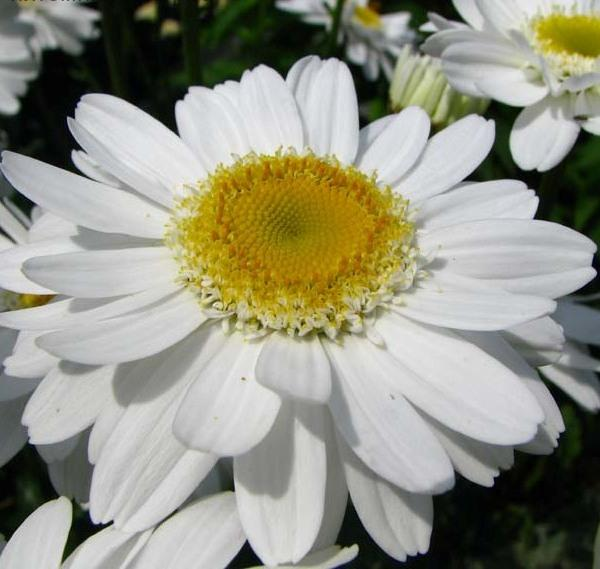chamomile: (49, 94, 504, 522), (466, 4, 600, 137)
